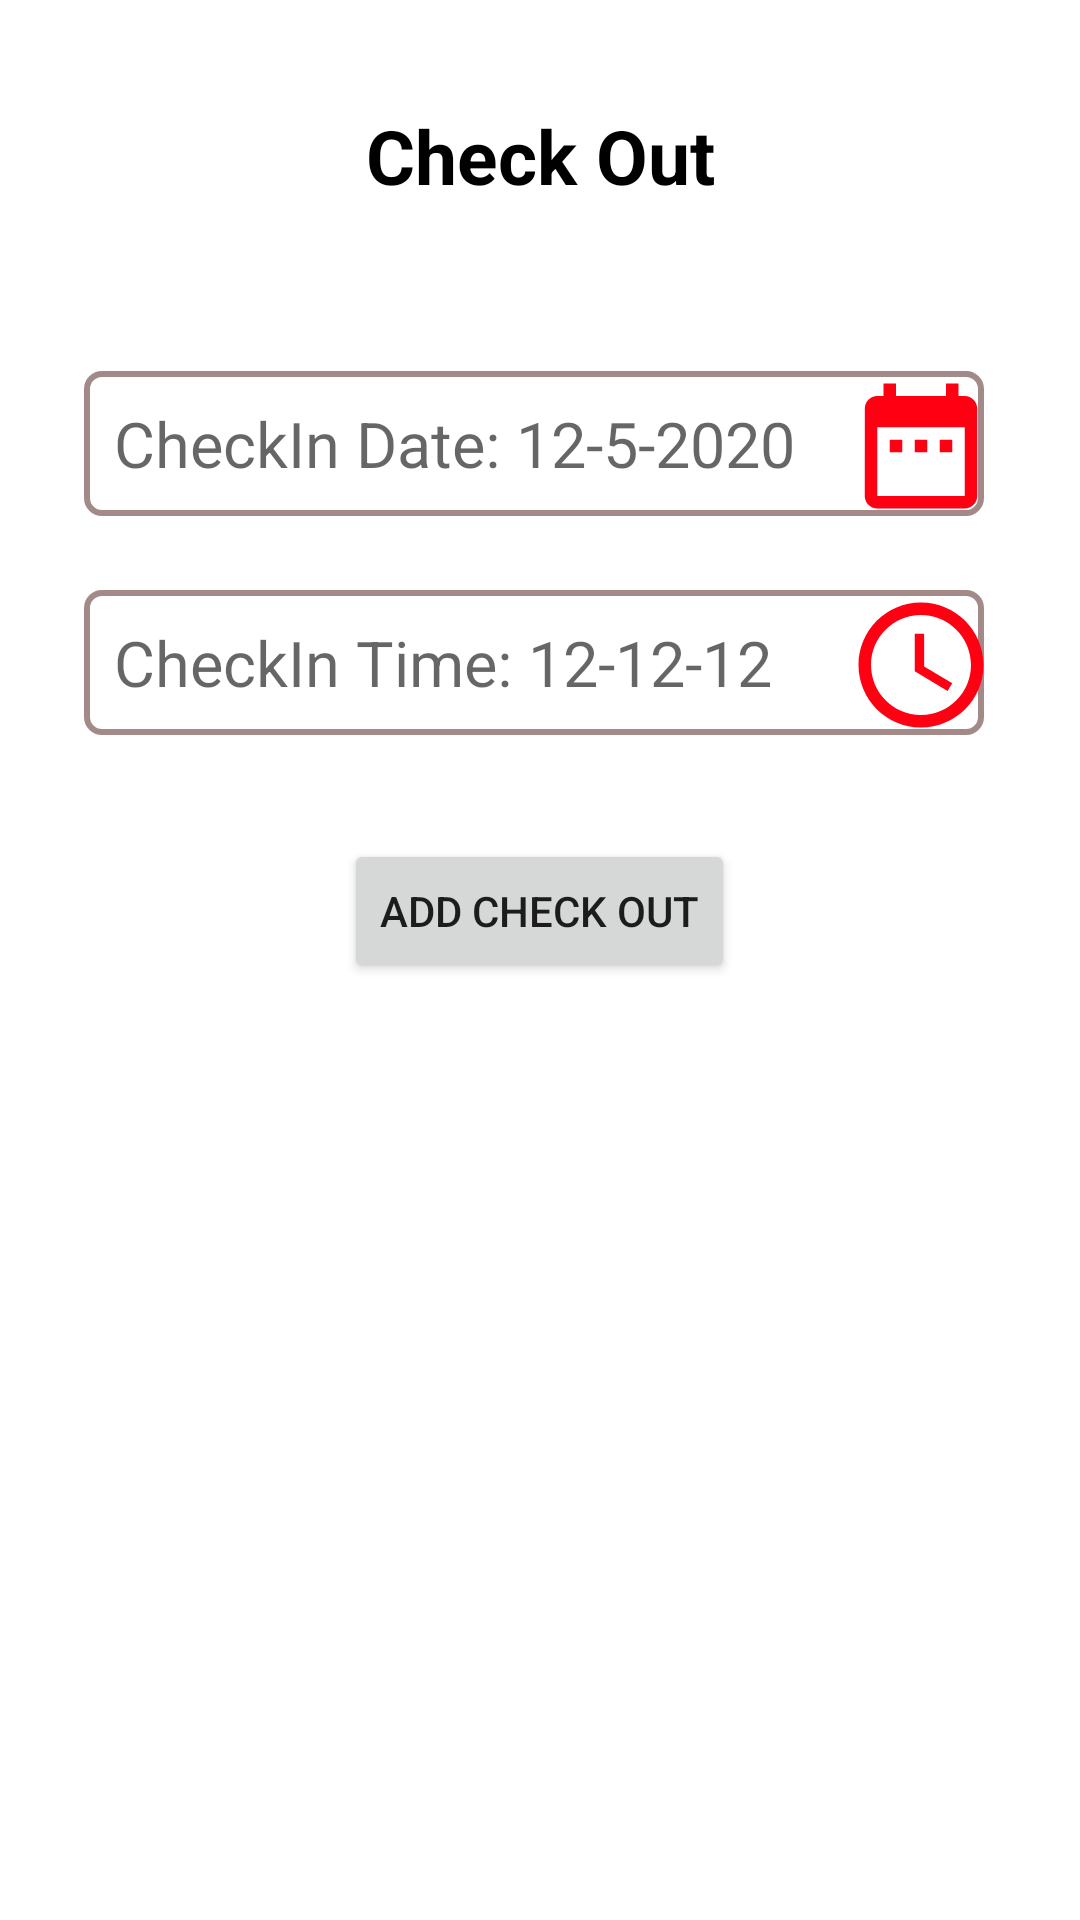

Named icons in this screenshot (1080×1920) and their centers, (x=x, y=y):
access time: (x=915, y=662)
date range: (x=915, y=443)
